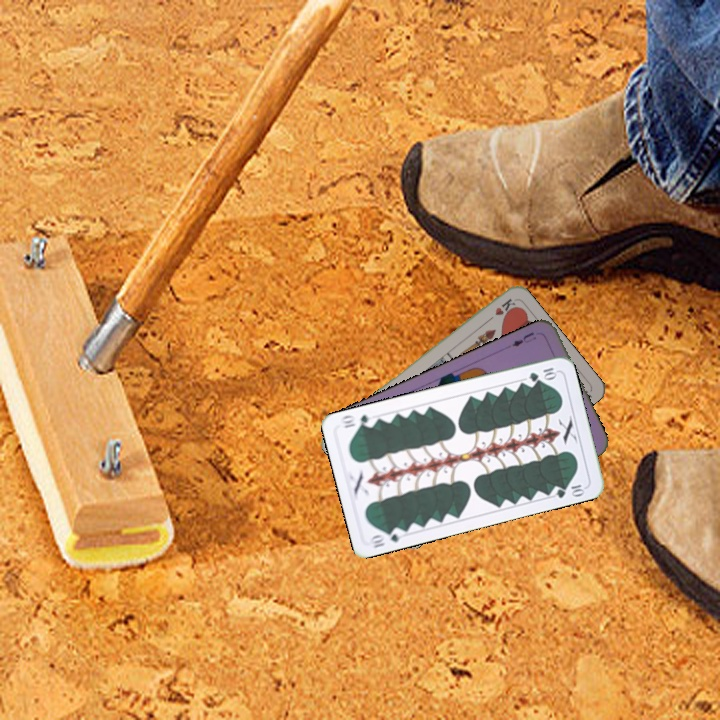EU: (508, 328, 539, 349)
G10: (366, 524, 407, 550), (525, 363, 560, 384)
HK: (481, 294, 517, 326)
